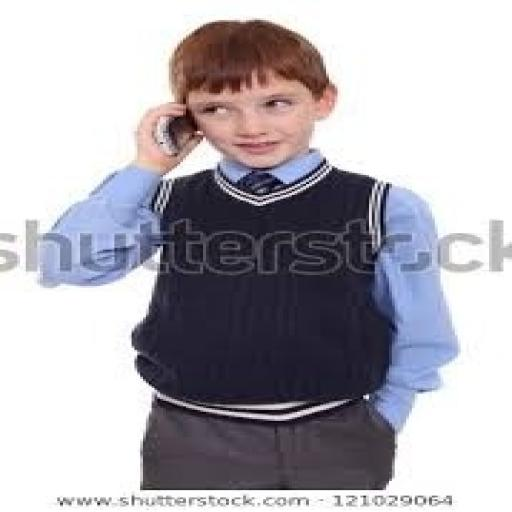calling: (32, 17, 460, 490)
